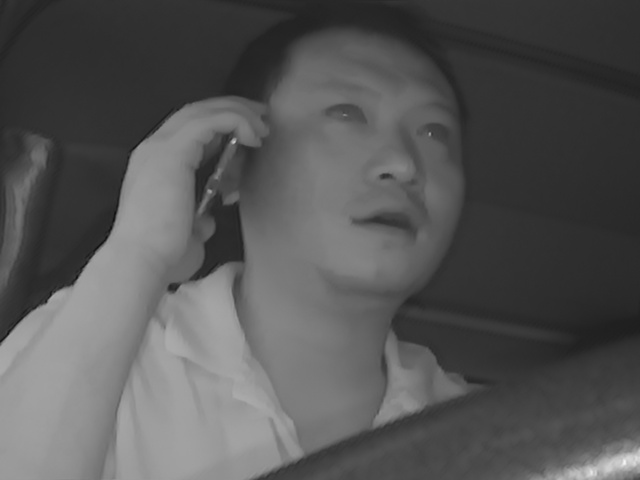hand: (115, 97, 246, 281)
